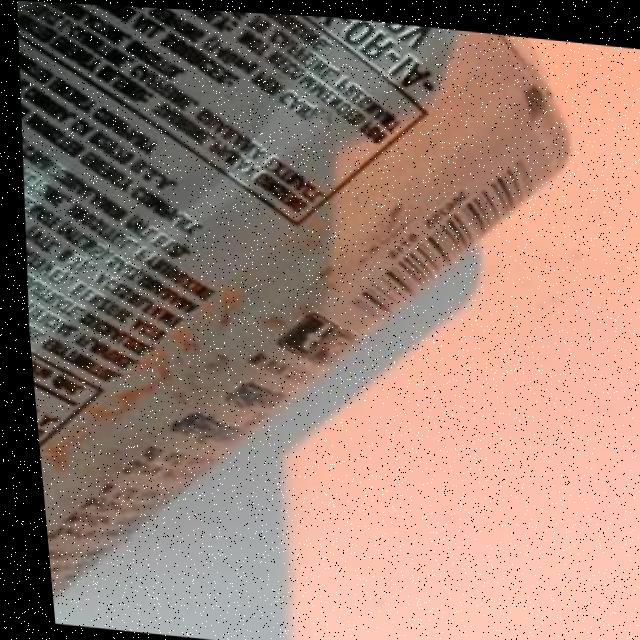metal: (0, 0, 611, 640)
